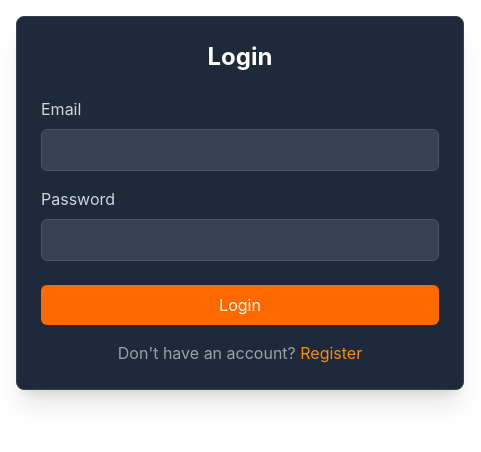
Test: LoginBox › validates email format
Type "email" into the field labelled "Email" at (240, 150), box [41,129,439,171]
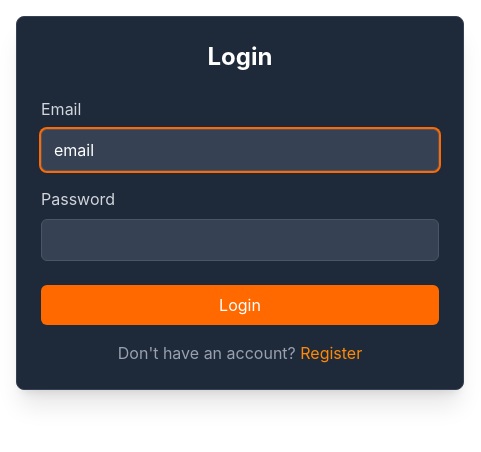
Leave the field labelled "Email", box [41,129,439,171]
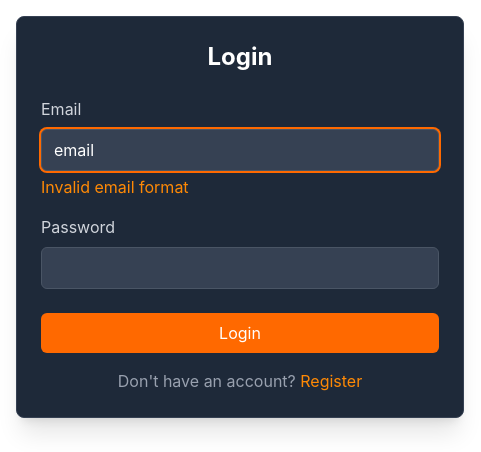
Result: the text "Invalid email format" is shown at [41,177,189,197]
